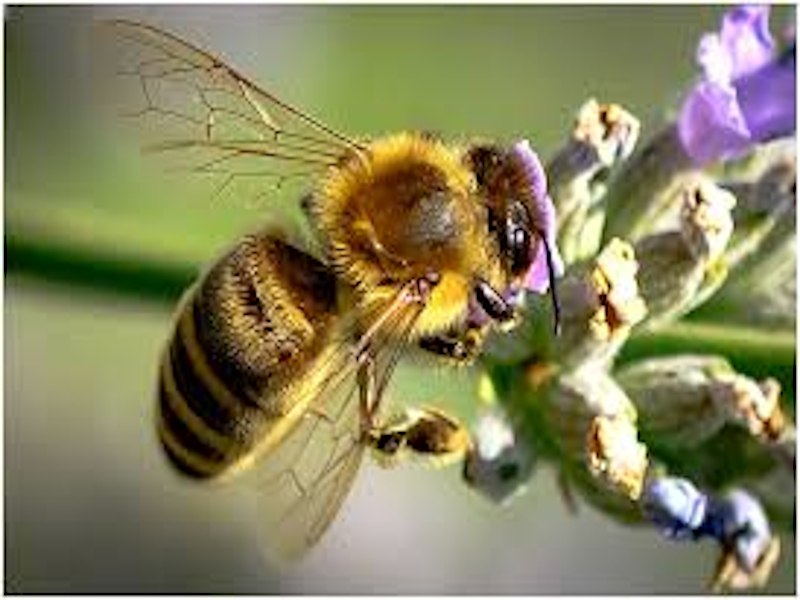abeja: (51, 1, 570, 563)
